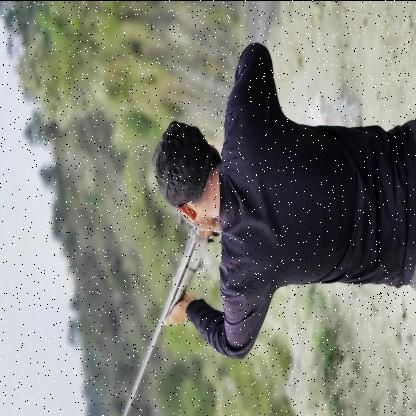rifle: (122, 205, 226, 416)
